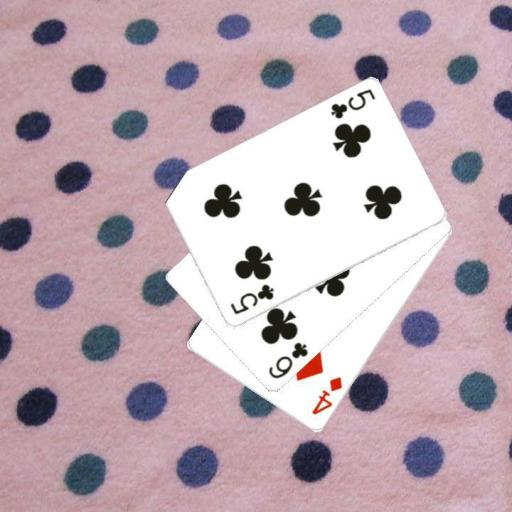4D: (309, 373, 344, 417)
5C: (327, 86, 377, 121), (227, 281, 275, 317)
6C: (265, 339, 310, 381)
